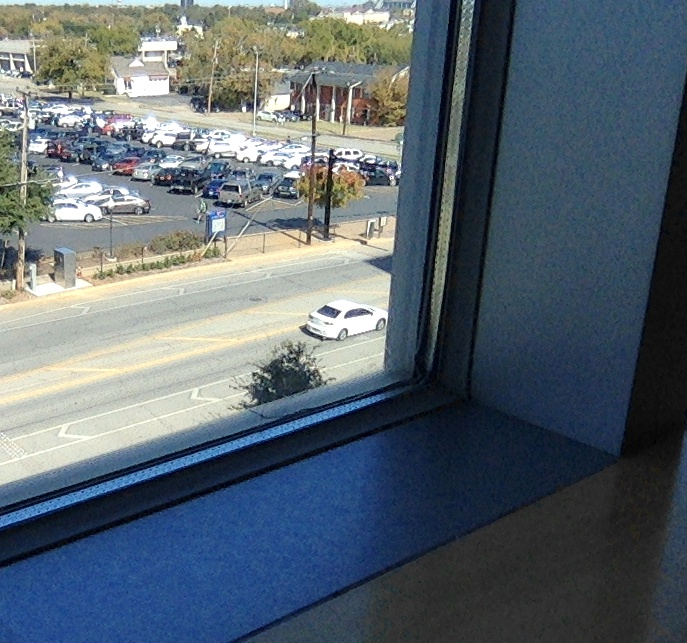car: (300, 300, 387, 343)
